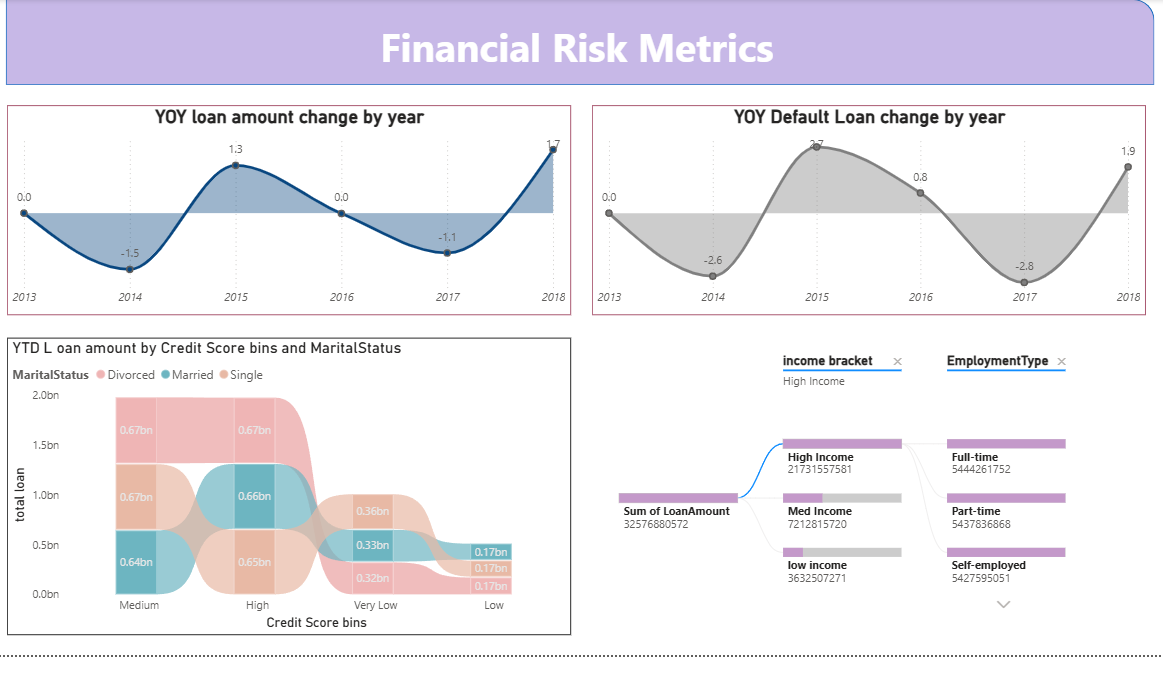

What the dashboard file says about the page in this screenshot:
{"tool":"powerbi","page":{"name":"Financial Risk Metrics","canvas":[1280,720],"ordinal":2},"visuals":[{"type":"shape","box":[9.6,0,1261.1,94.7],"z":0},{"type":"lineChart","title":"YOY loan amount change by year","fields":{"Category":["Loan_default.year"],"Y":["measure table 3.year on year change in loan amount"]},"box":[11,116.6,618.9,230.5],"z":1000},{"type":"lineChart","title":"YOY Default Loan change by year","fields":{"Category":["Loan_default.year"],"Y":["measure table 3.yoy change in defsult rate"]},"box":[653.2,116.6,607.9,230.5],"z":2000},{"type":"ribbonChart","title":"YTD L oan amount by Credit Score bins and MaritalStatus","fields":{"Category":["Loan_default.Credit Score bins"],"Y":["measure table 3.total loan"],"Series":["Loan_default.MaritalStatus"]},"box":[11,371.9,618.9,326.6],"z":3000},{"type":"decompositionTreeVisual","fields":{"Analyze":["Sum(Loan_default.LoanAmount)"],"ExplainBy":["Loan_default.income bracket","Loan_default.EmploymentType"]},"box":[653,372,608,327],"z":4000}]}

Visuals, with their boxes on the page's 1280x720 design canvas (x1, y1, x2, y2). These are canvas units, not pixel positions in the 1163x680 screenshot, which may show the page scaled, cropped or inside an application window:
shape: box(10, 0, 1271, 95)
"YOY loan amount change by year" lineChart: box(11, 117, 630, 347)
"YOY Default Loan change by year" lineChart: box(653, 117, 1261, 347)
"YTD L oan amount by Credit Score bins and MaritalStatus" ribbonChart: box(11, 372, 630, 698)
decompositionTreeVisual - Sum(Loan_default.LoanAmount) x Loan_default.income bracket: box(653, 372, 1261, 699)
